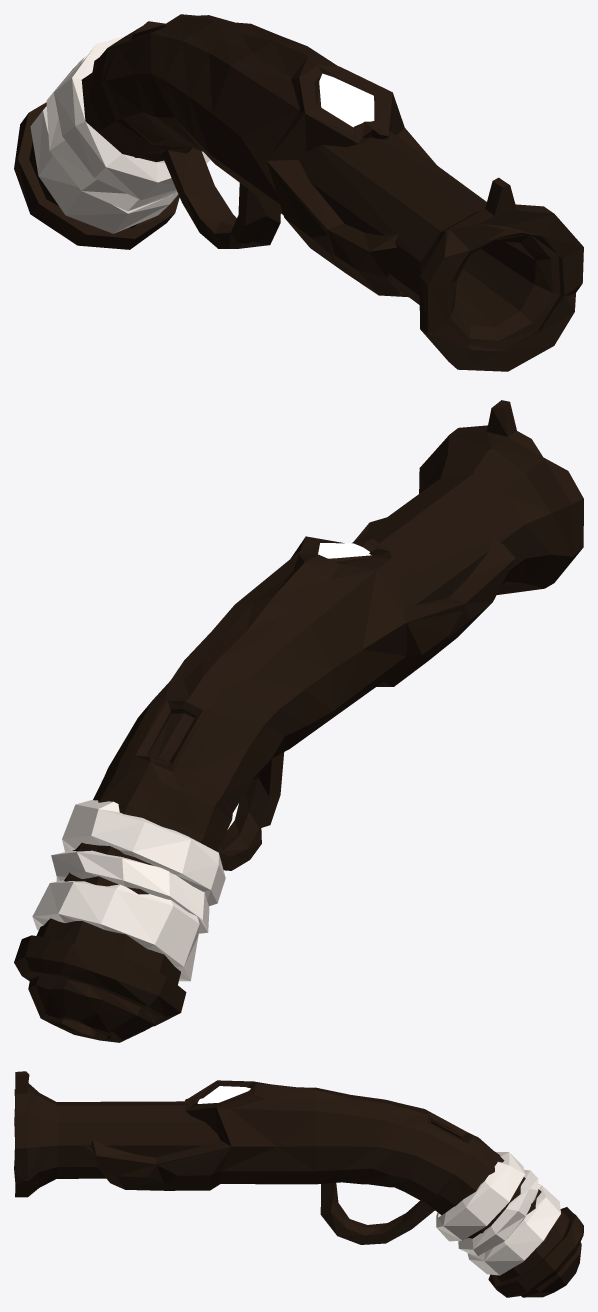
The model's file is SFFA_Pistol_Stylized_001.fbx.
3 renders of one model, top to bottom at view 1: azimuth 30°, elevation 25°; view 2: azimuth 150°, elevation 25°; view 3: azimuth 270°, elevation 25°, orthographic. The views are drawn at different scales.
Parts seen in each view (by area): view 1: SFFA_Pistol_Stylized_001; view 2: SFFA_Pistol_Stylized_001; view 3: SFFA_Pistol_Stylized_001.
Part boxes in pixels (x1,y1,x2,y2): SFFA_Pistol_Stylized_001: (14,14,583,371); SFFA_Pistol_Stylized_001: (14,400,583,1042); SFFA_Pistol_Stylized_001: (14,1071,583,1297).
Size of the model in its own units: 6.65 by 14.02 by 32.92.
